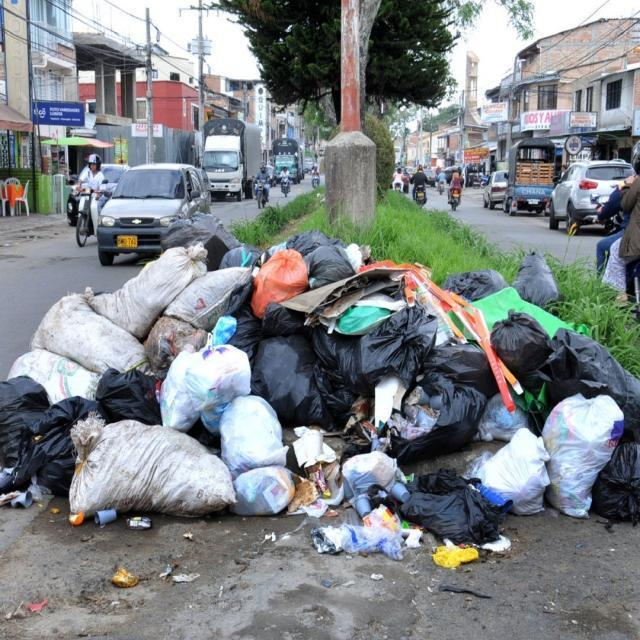high trash: (0, 218, 640, 568)
